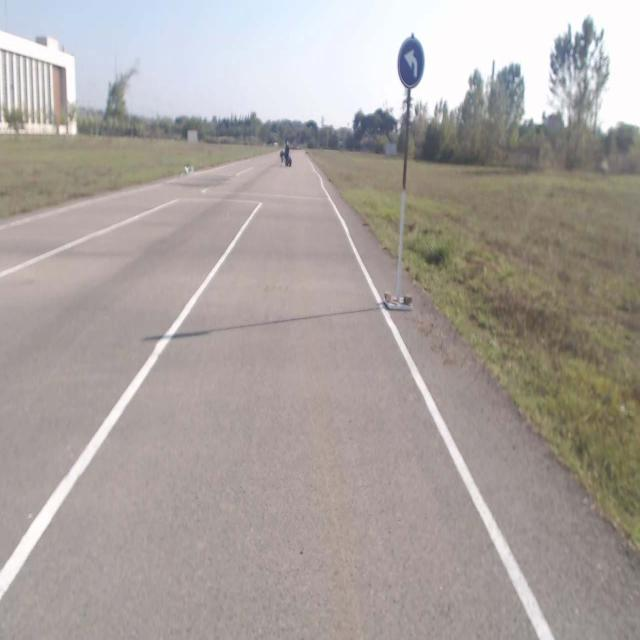sol: (398, 38, 424, 86)
